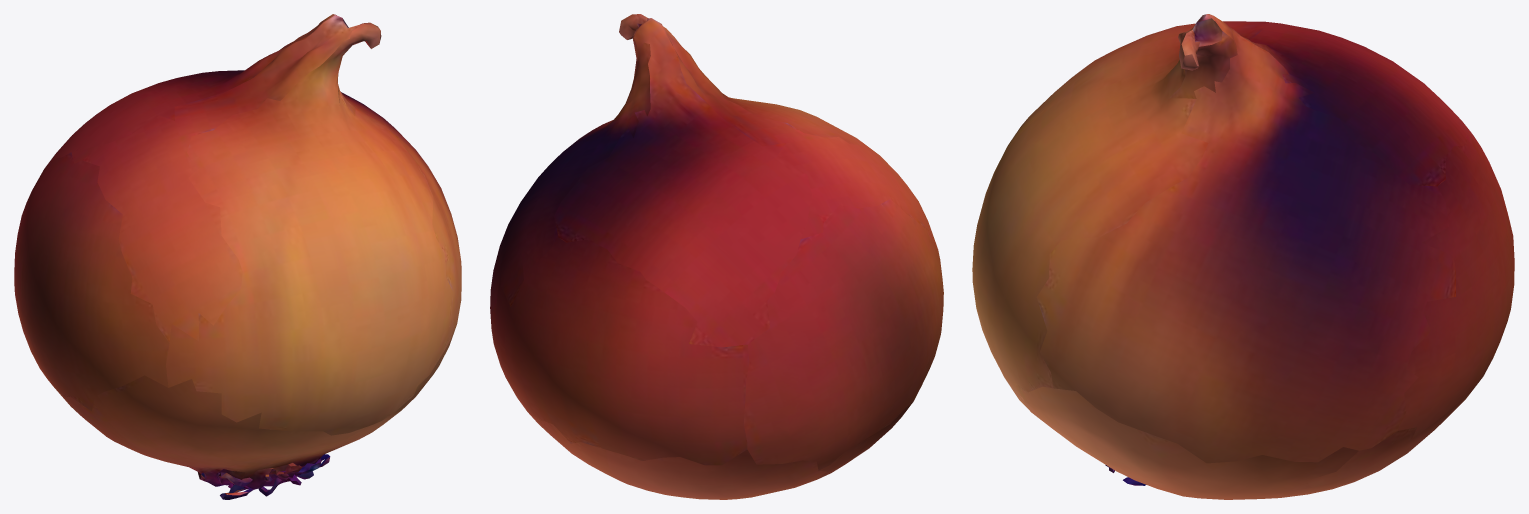
File: onion.glb
3 renders of one model, left to right at view 1: azimuth 30°, elevation 25°; view 2: azimuth 150°, elevation 25°; view 3: azimuth 270°, elevation 25°, orthographic. The views are drawn at different scales.
Visible parts, largest first — view 1: onion_r; view 2: onion_r; view 3: onion_r.
Boxes of the visible parts, <box> form: onion_r: <box>14,14,461,499</box>; onion_r: <box>490,14,943,499</box>; onion_r: <box>972,14,1514,499</box>.
Size of the model in its own units: 0.9397 by 1 by 0.9634.
1 material, 1 textured.
